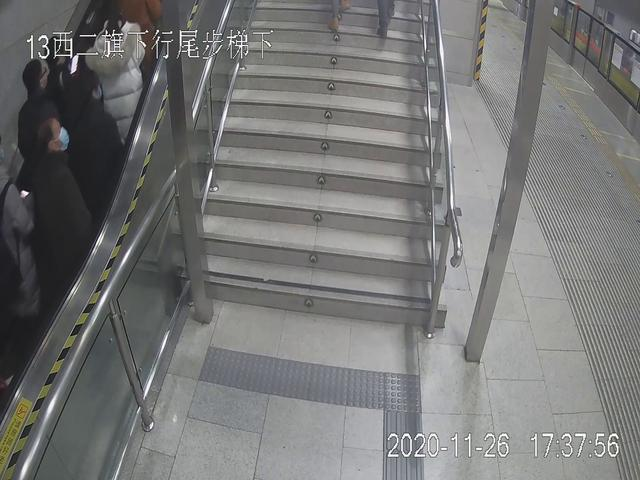person: (20, 116, 98, 305)
